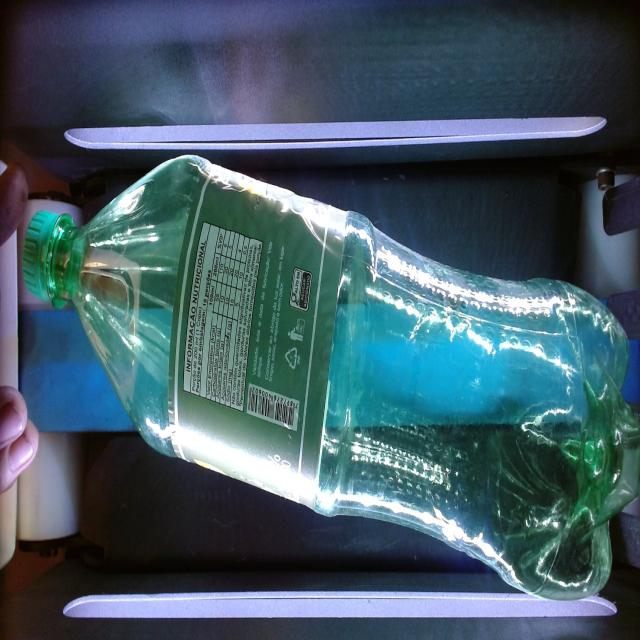bottom: (520, 264, 638, 631)
cap: (16, 202, 85, 312)
code: (244, 381, 305, 439)
